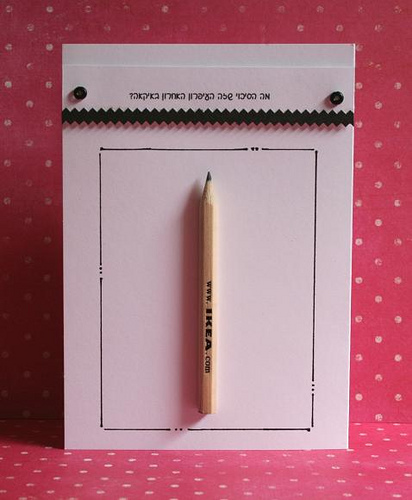pen_tip: (190, 169, 226, 221)
